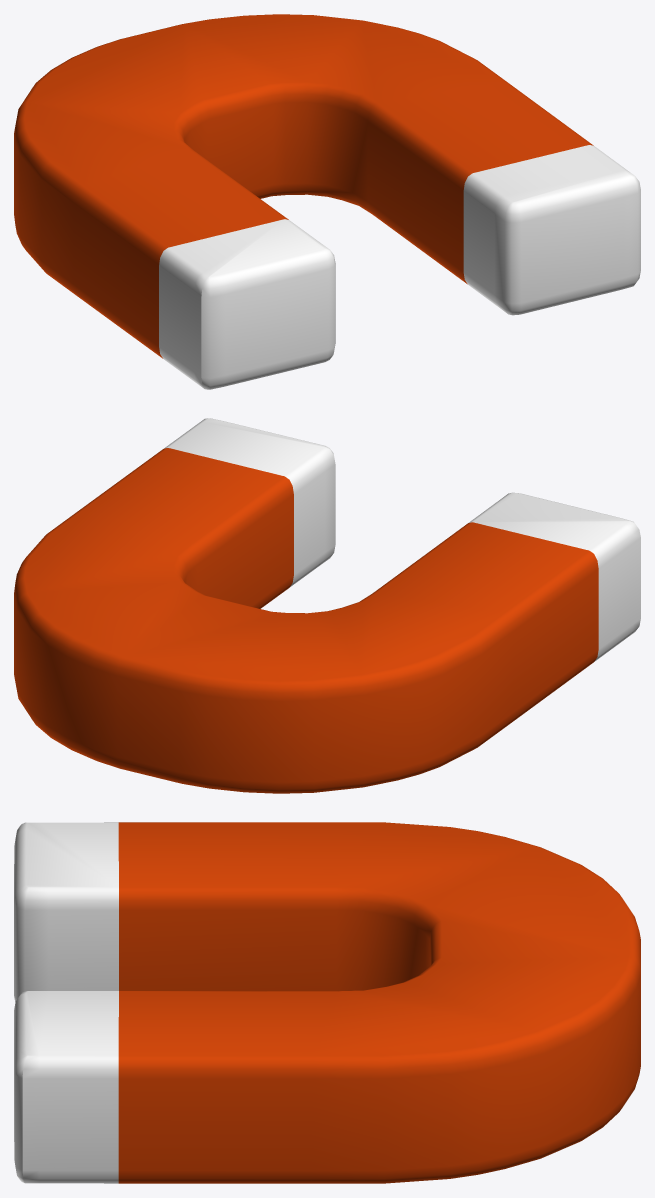
Rendered from Magnet_1.fbx.
3 renders of one model, top to bottom at view 1: azimuth 30°, elevation 25°; view 2: azimuth 150°, elevation 25°; view 3: azimuth 270°, elevation 25°, orthographic. The views are drawn at different scales.
Visible parts, largest first — view 1: Magnet_1; view 2: Magnet_1; view 3: Magnet_1.
Part boxes in pixels (<box>): Magnet_1: <box>14,14,640,389</box>; Magnet_1: <box>14,418,640,793</box>; Magnet_1: <box>14,822,640,1183</box>.
Size of the model in its own units: 0.2244 by 0.0548 by 0.2441.
